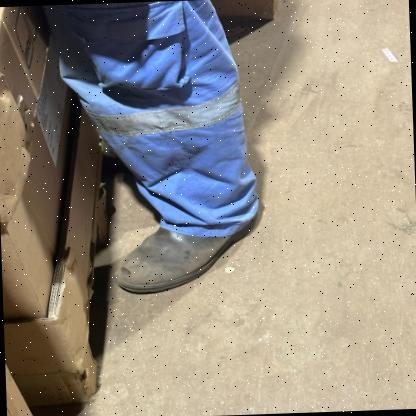bota: (84, 199, 272, 304)
